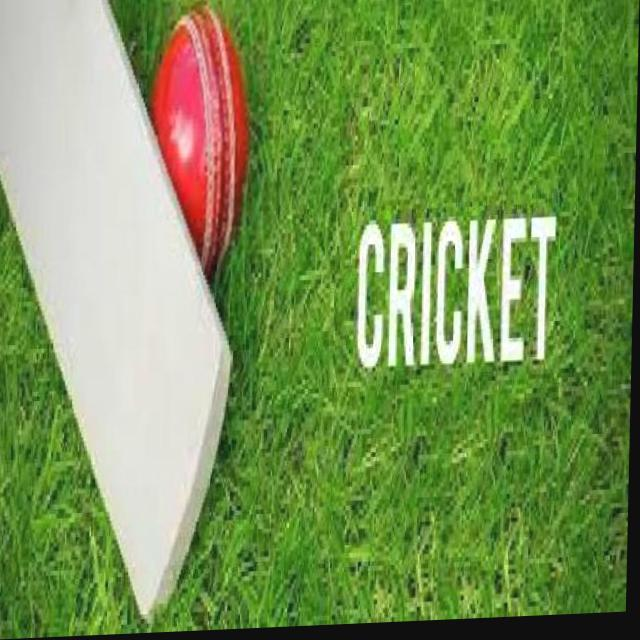-: (145, 0, 276, 269)
